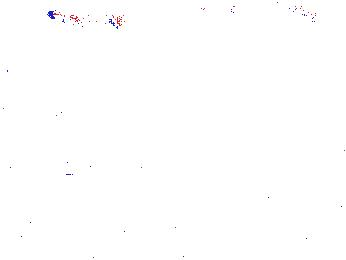X-ray fish: (2, 29, 42, 79)
glassfish: (222, 1, 335, 38)
redtail glassfish: (42, 6, 127, 34)
